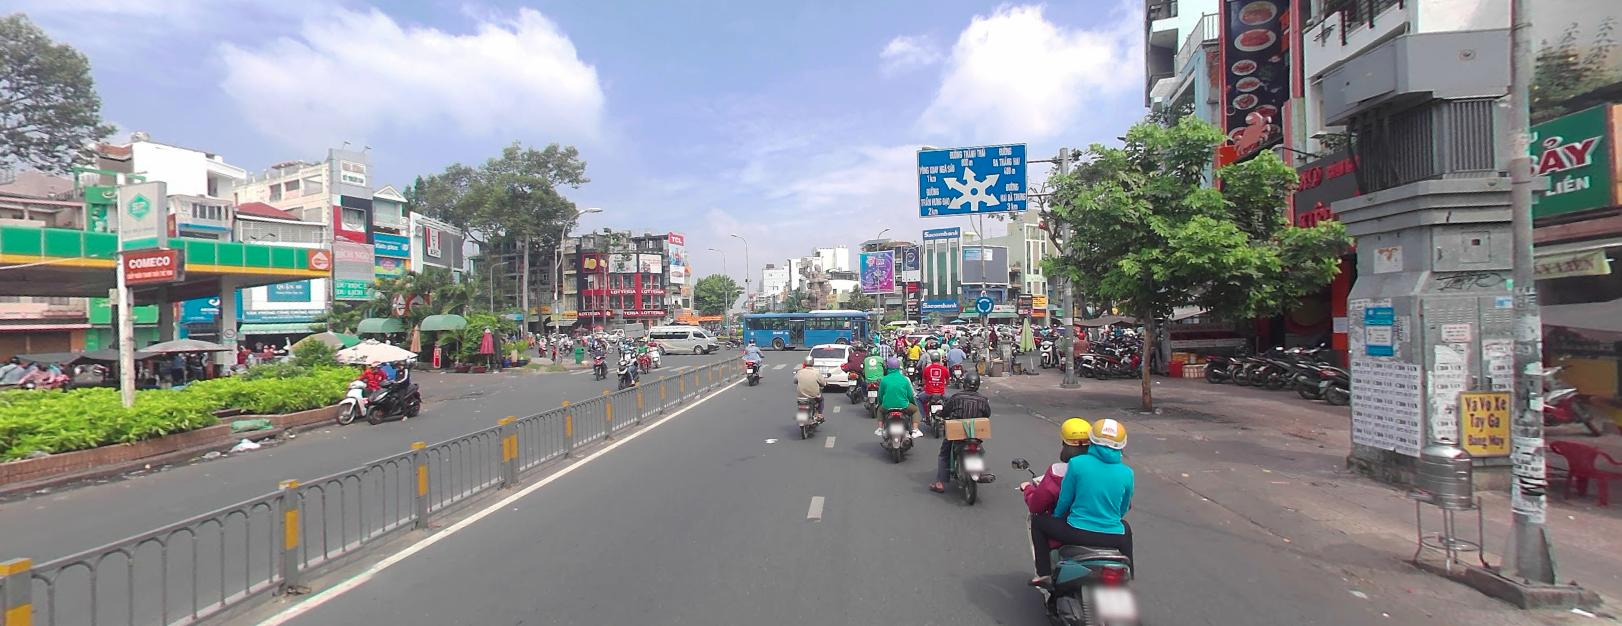Cam nguoc chieu: (1027, 307, 1030, 311)
Hieu lenh: (974, 294, 994, 314), (1027, 311, 1030, 315)
